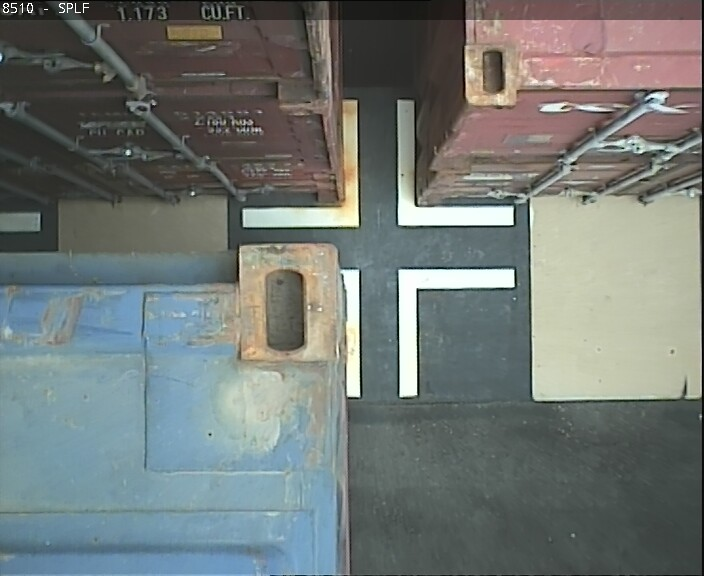groundmarker_1: (240, 102, 513, 227), (242, 269, 515, 394)
